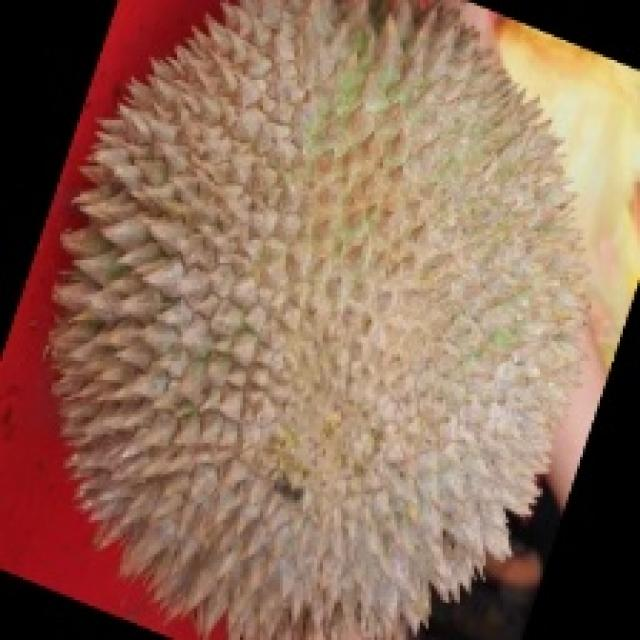d175: (69, 12, 574, 627)
